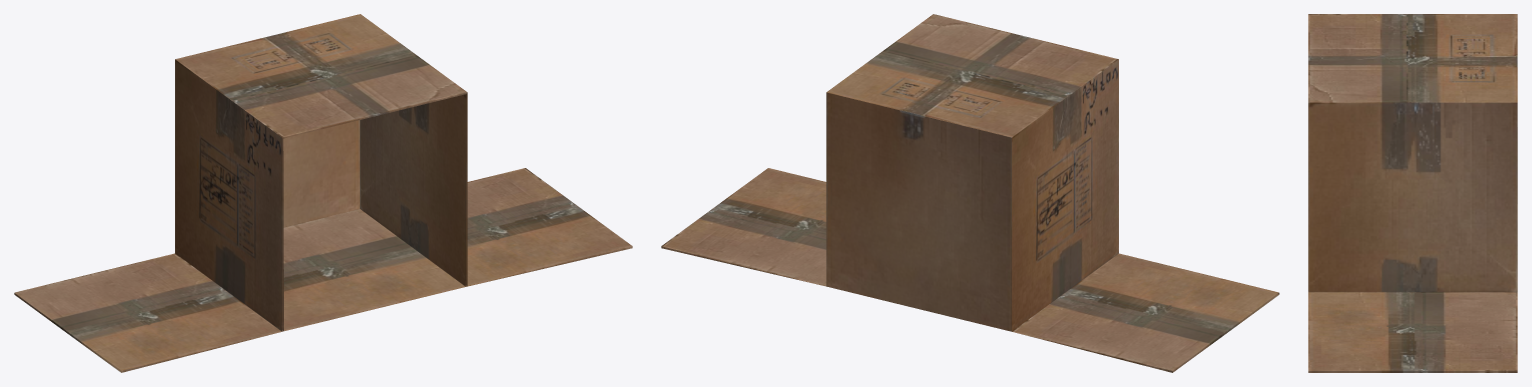
File: cardboardbox.glb
3 views of the same model, side by side, from view 1: azimuth 30°, elevation 25°; view 2: azimuth 150°, elevation 25°; view 3: azimuth 270°, elevation 25° (orthographic). The views are drawn at different scales.
Visible parts, largest first — view 1: Cube; view 2: Cube; view 3: Cube.
Part boxes in pixels (left/top/right/bottom): Cube: left=14, top=14, right=632, bottom=372; Cube: left=661, top=14, right=1279, bottom=372; Cube: left=1308, top=14, right=1517, bottom=372.
Size of the model in its own units: 5.51 by 2.02 by 2.
1 material, 1 textured.
